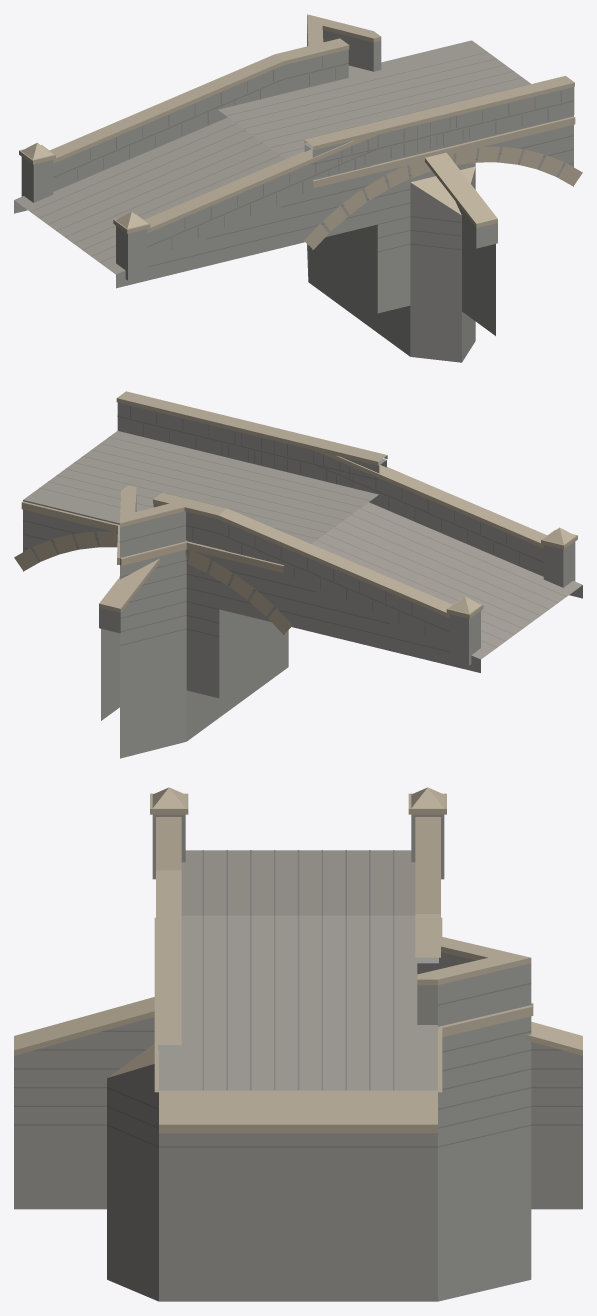
The model's file is wasser_steinbruecke.glb.
The picture shows the model from 3 angles, top to bottom: view 1: azimuth 30°, elevation 25°; view 2: azimuth 150°, elevation 25°; view 3: azimuth 270°, elevation 25°; orthographic projection. The views are drawn at different scales.
Parts seen in each view (by area): view 1: Stein_Rampe, Stein_Pfeiler, Stein_Bogen, Stein_Bruestung; view 2: Stein_Rampe, Stein_Bogen, Stein_Pfeiler, Stein_Bruestung; view 3: Stein_Pfeiler, Stein_Rampe, Stein_Bogen, Stein_Bruestung.
Boxes of the visible parts, left/top/right/bottom form: Stein_Rampe: left=14, top=38, right=497, bottom=335; Stein_Pfeiler: left=307, top=14, right=476, bottom=362; Stein_Bogen: left=218, top=40, right=582, bottom=250; Stein_Bruestung: left=304, top=76, right=574, bottom=178; Stein_Rampe: left=99, top=423, right=582, bottom=720; Stein_Bogen: left=14, top=431, right=378, bottom=634; Stein_Pfeiler: left=117, top=415, right=288, bottom=758; Stein_Bruestung: left=116, top=391, right=387, bottom=493; Stein_Pfeiler: left=107, top=936, right=533, bottom=1301; Stein_Rampe: left=14, top=787, right=582, bottom=1209; Stein_Bogen: left=154, top=915, right=442, bottom=1092; Stein_Bruestung: left=156, top=870, right=181, bottom=1050.
Size of the model in its own units: 14.27 by 6.87 by 11.
